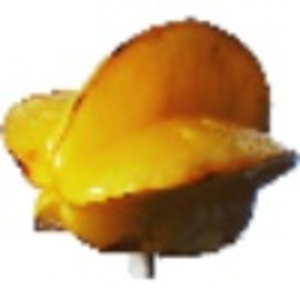carambola: (1, 17, 300, 279)
